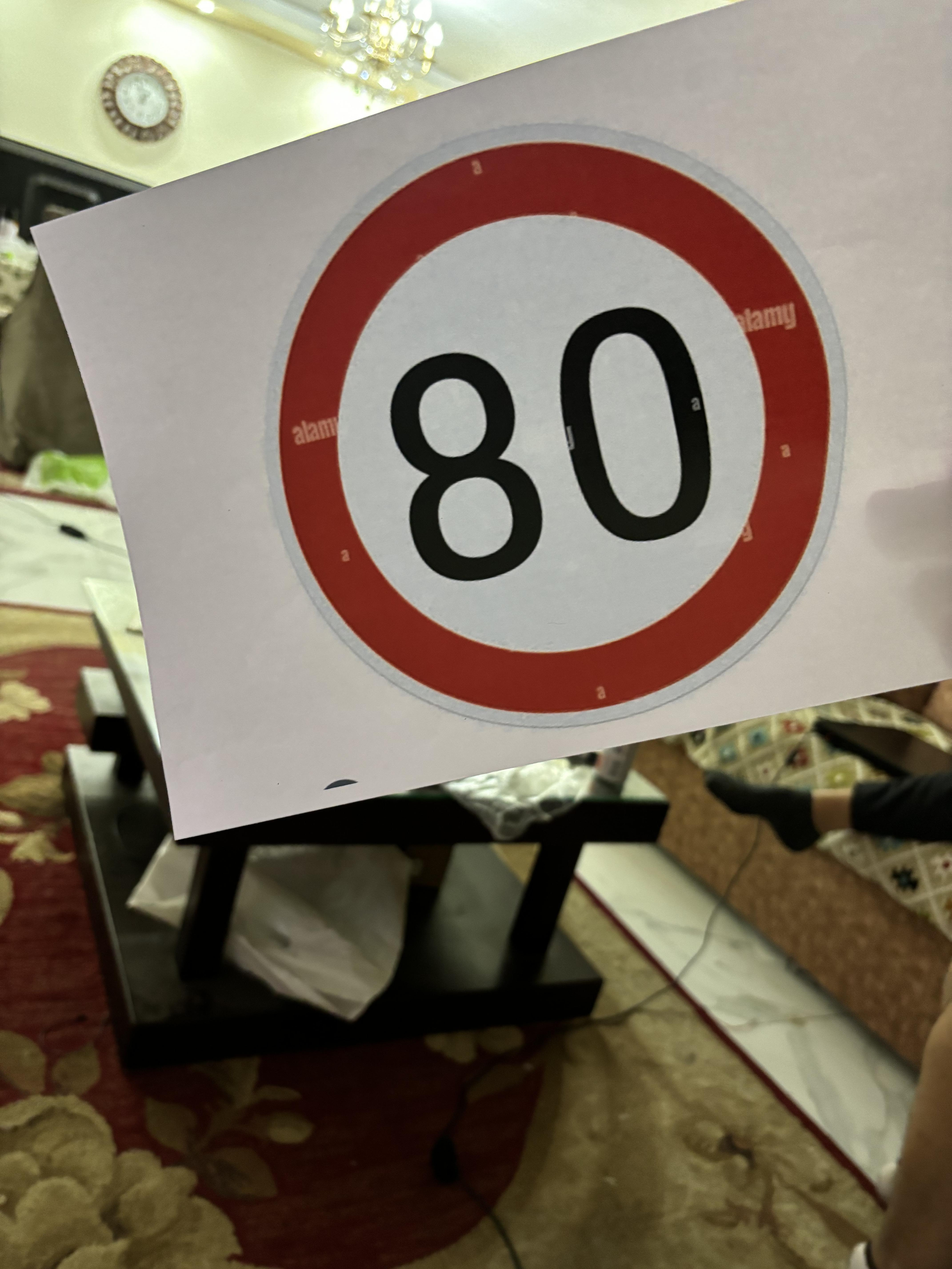80-Speed: (258, 112, 861, 735)
